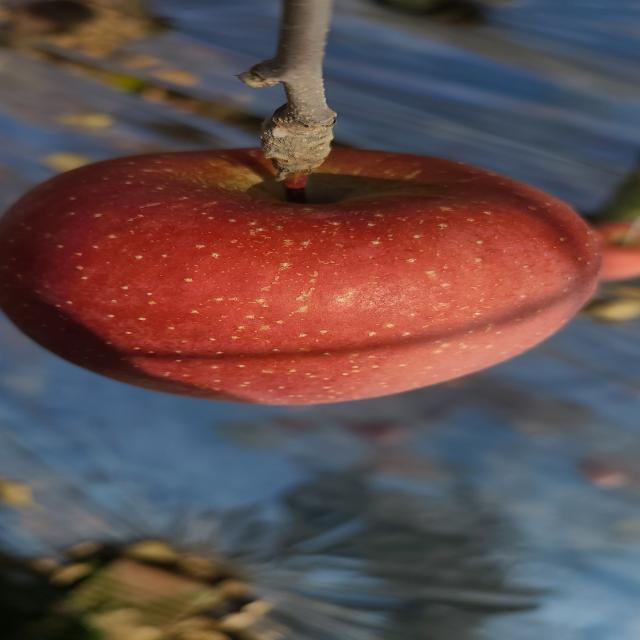fresh: (1, 133, 622, 412)
